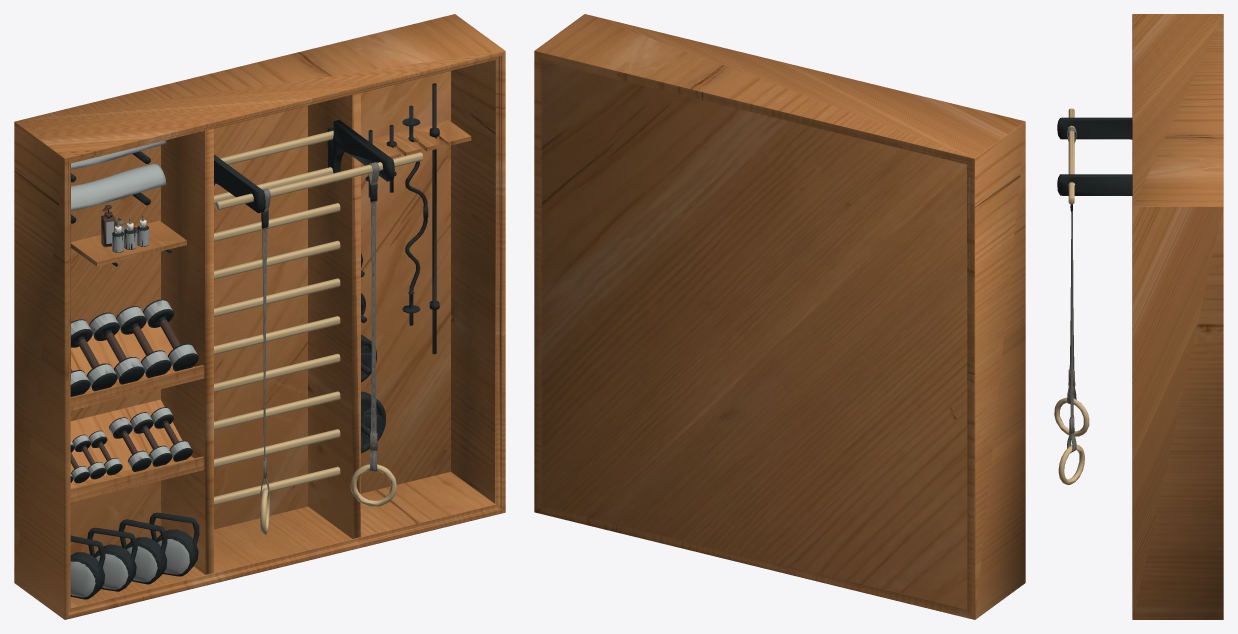
Rendered from gym-equipment-03.mobile.glb.
3 views of the same model, side by side, from view 1: azimuth 30°, elevation 25°; view 2: azimuth 150°, elevation 25°; view 3: azimuth 270°, elevation 25° (orthographic). The views are drawn at different scales.
Parts seen in each view (by area): view 1: Gym | Oak cabinet, Gym | Black rubber weights, Gym | Pale wood rungs, Gym | Brushed steel, Gym | Woven suspension straps, Gym | Dumbbell grips; view 2: Gym | Oak cabinet; view 3: Gym | Oak cabinet, Gym | Black rubber weights, Gym | Pale wood rungs, Gym | Woven suspension straps.
Part boxes in pixels (x1=…): Gym | Oak cabinet: x1=14, y1=14, x2=505, y2=619; Gym | Black rubber weights: x1=70, y1=83, x2=439, y2=599; Gym | Pale wood rungs: x1=214, y1=130, x2=423, y2=535; Gym | Brushed steel: x1=70, y1=140, x2=197, y2=597; Gym | Woven suspension straps: x1=260, y1=162, x2=379, y2=497; Gym | Dumbbell grips: x1=70, y1=205, x2=180, y2=468; Gym | Oak cabinet: x1=534, y1=14, x2=1025, y2=619; Gym | Oak cabinet: x1=1132, y1=14, x2=1223, y2=619; Gym | Black rubber weights: x1=1057, y1=117, x2=1132, y2=210; Gym | Pale wood rungs: x1=1054, y1=108, x2=1089, y2=484; Gym | Woven suspension straps: x1=1067, y1=127, x2=1076, y2=452.
Size of the model in its own units: 2 by 2 by 0.7428.
8 materials, 1 textured.
